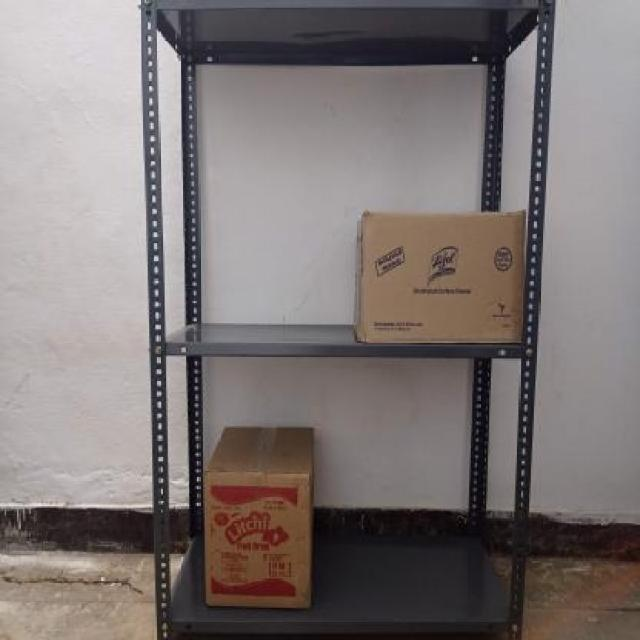box: (357, 213, 525, 347), (202, 470, 313, 613)
